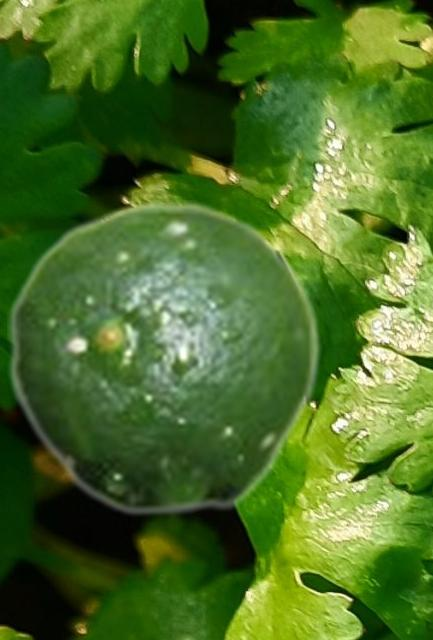calamansi: (7, 200, 321, 517)
